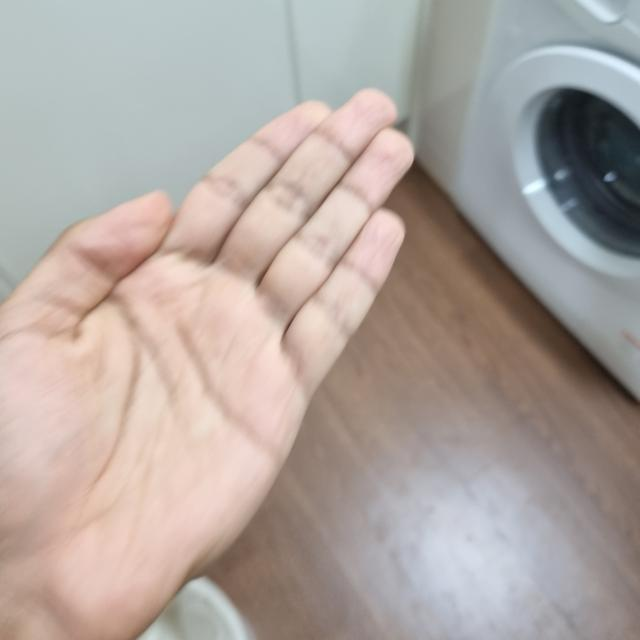Paper: (0, 93, 415, 637)
